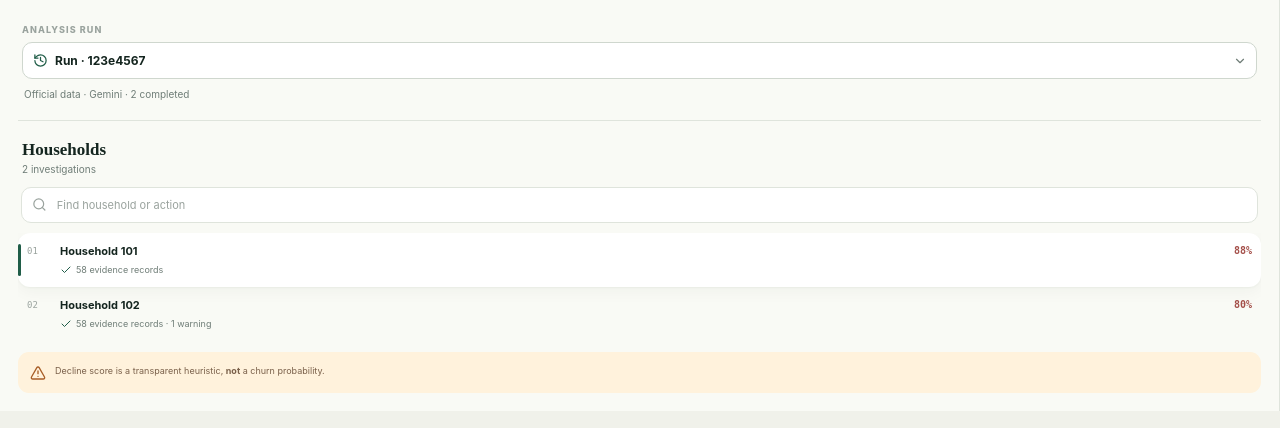
Test: dashboard interactions › preserves the original candidate rank when filtering households
The width and height of the screenshot is (1280, 428).
Type "102" into the field with placeholder "Find household or action" at [651, 204], box top-left (55, 196), bottom-right (1247, 212)
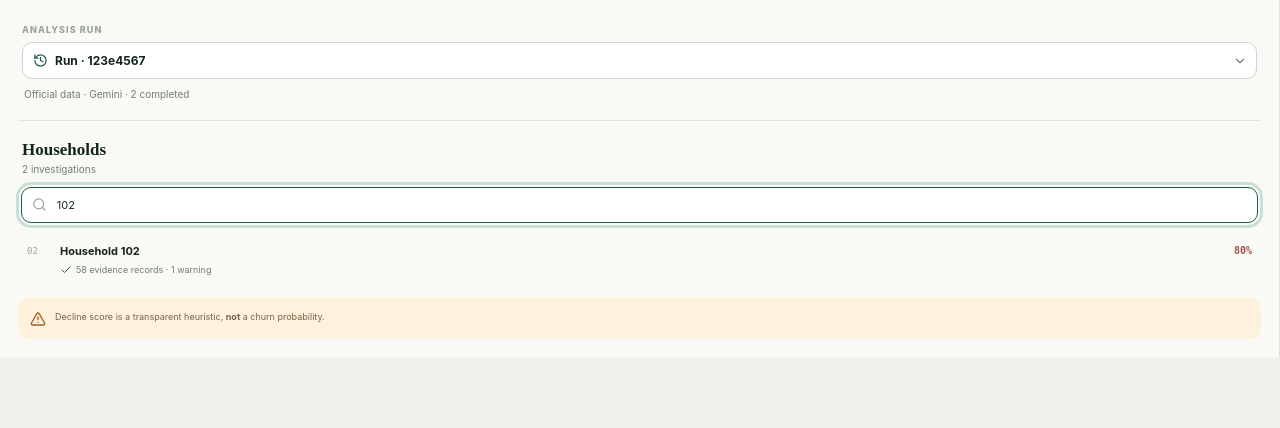
Expected: the text "02" is shown, top-left (27, 246), bottom-right (38, 256)
Expected: the button "Household 101" is gone
